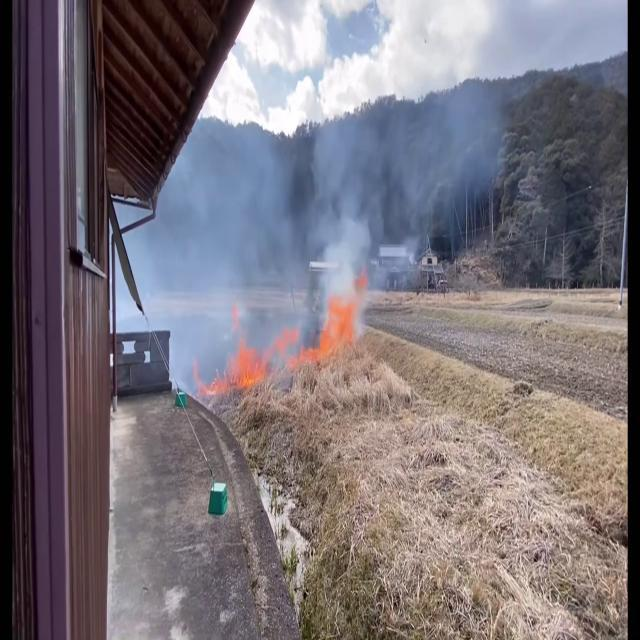Fire: (302, 286, 359, 368), (222, 326, 266, 398)
Smoke: (267, 45, 511, 298), (137, 132, 306, 372)
